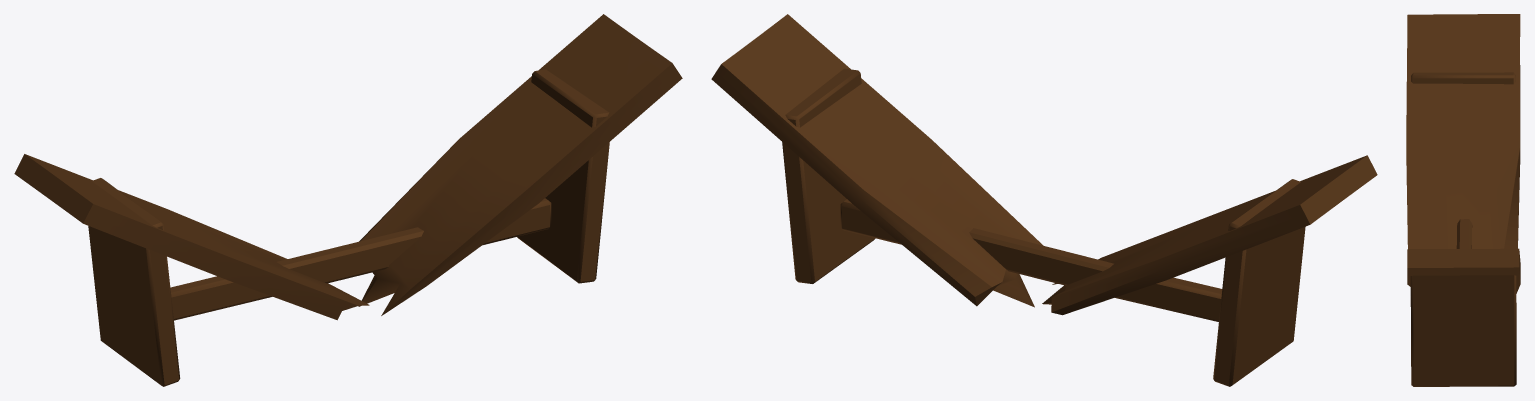
The model's file is bank_kaputt.glb.
The picture shows the model from 3 angles, left to right: view 1: azimuth 30°, elevation 25°; view 2: azimuth 150°, elevation 25°; view 3: azimuth 270°, elevation 25°; orthographic projection. The views are drawn at different scales.
Parts seen in each view (by area): view 1: bank_kaputt; view 2: bank_kaputt; view 3: bank_kaputt.
Boxes of the visible parts, left/top/right/bottom form: bank_kaputt: left=14, top=14, right=682, bottom=386; bank_kaputt: left=711, top=14, right=1377, bottom=386; bank_kaputt: left=1406, top=14, right=1520, bottom=386.
Size of the model in its own units: 1.53 by 0.4962 by 0.3052.
